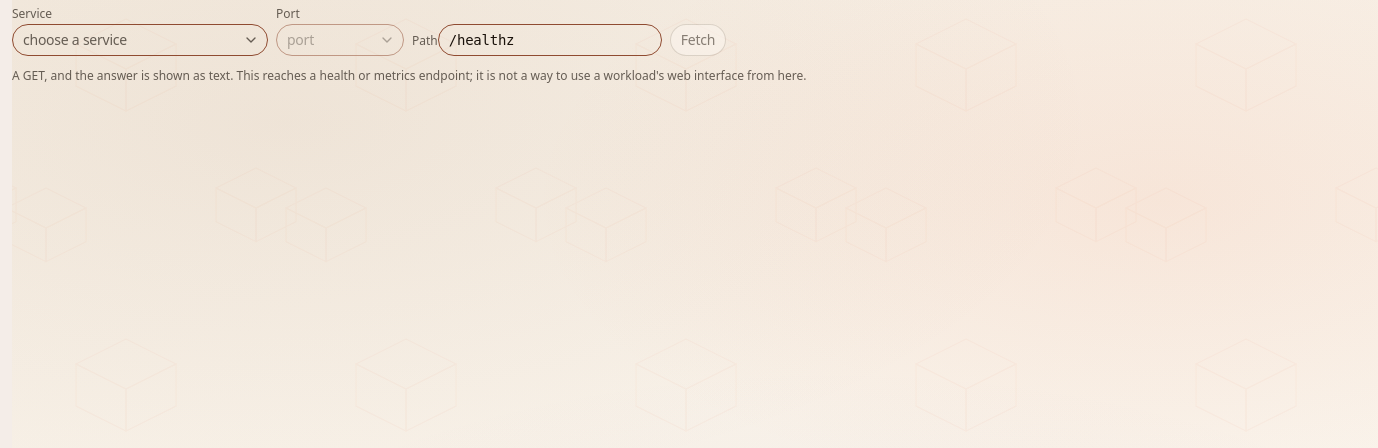
it: reaching a service › shows a workload’s markup as text and does not render it
Click the dropdown labelled "service". click: (140, 40)
box: [12,24,268,56]
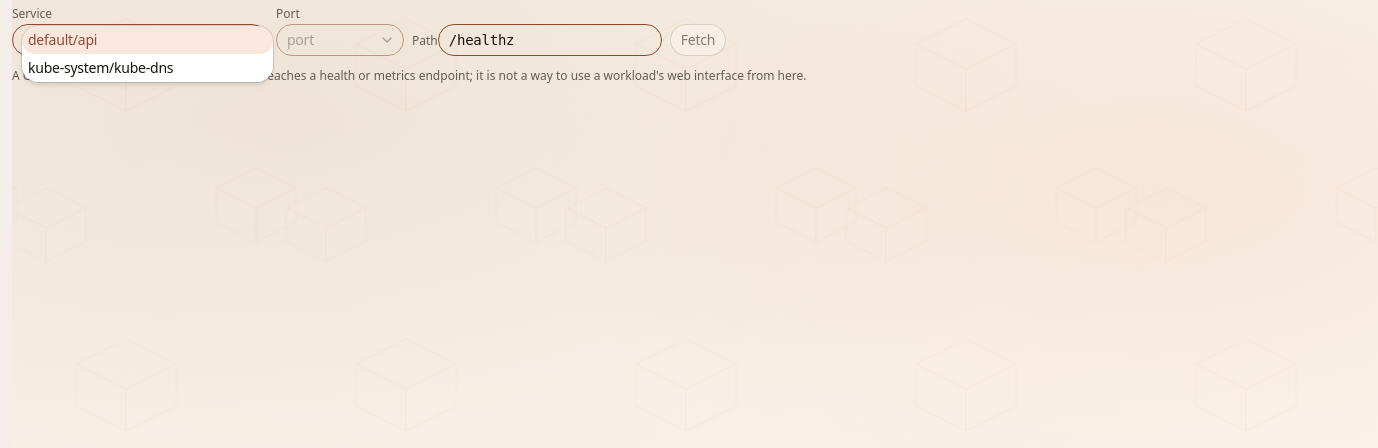
Click the option "default/api". click: (148, 40)
box: [22,26,273,54]
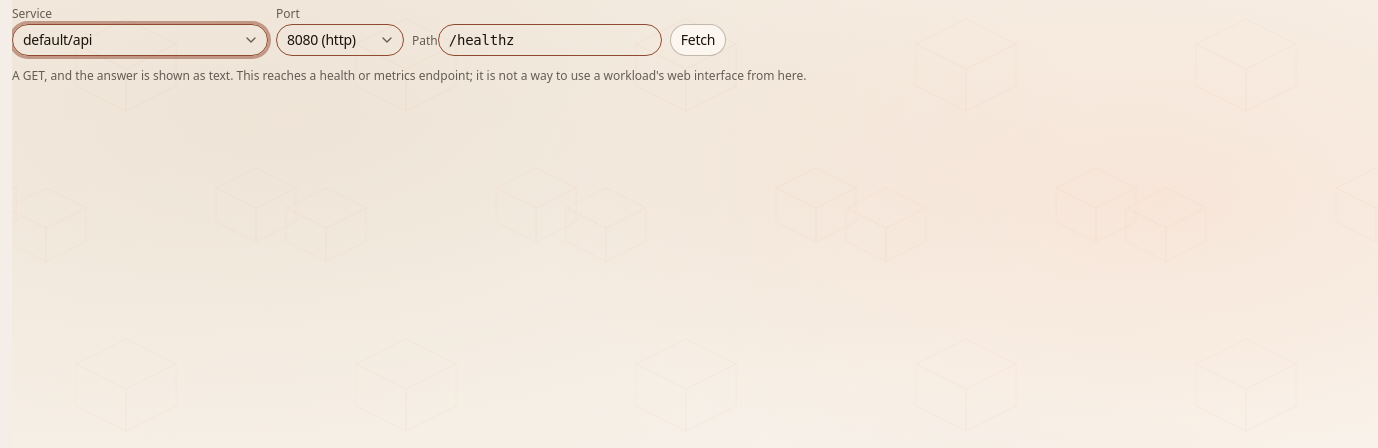
Click the button "Fetch". click: (698, 40)
box: [670,24,726,56]
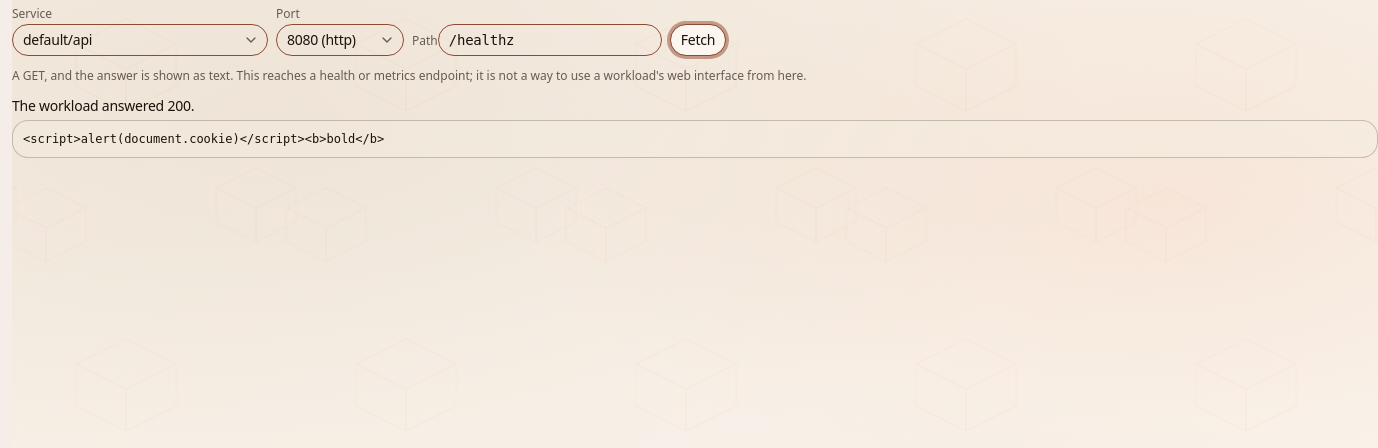
Result: the text "<script>alert(document.cookie)</script><b>bold</b>" is shown at [12,120,1377,158]
